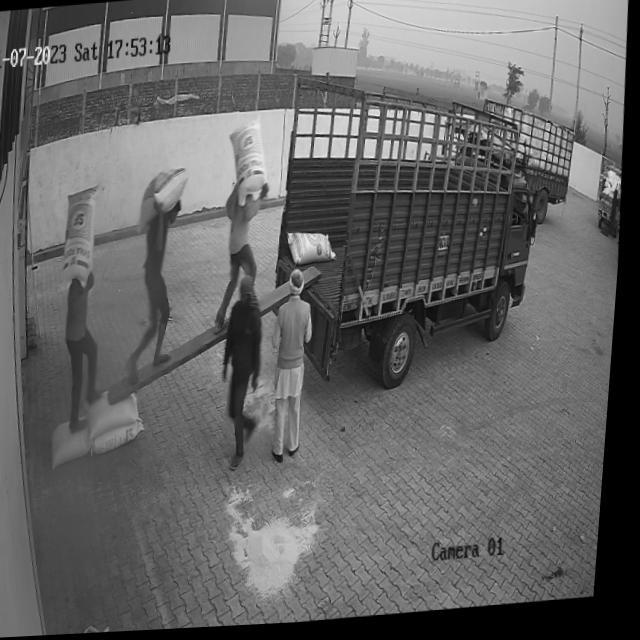sack: (226, 117, 274, 210), (62, 187, 103, 288), (137, 168, 193, 236), (88, 388, 146, 439), (288, 230, 342, 270), (55, 418, 98, 468), (97, 421, 150, 454)
